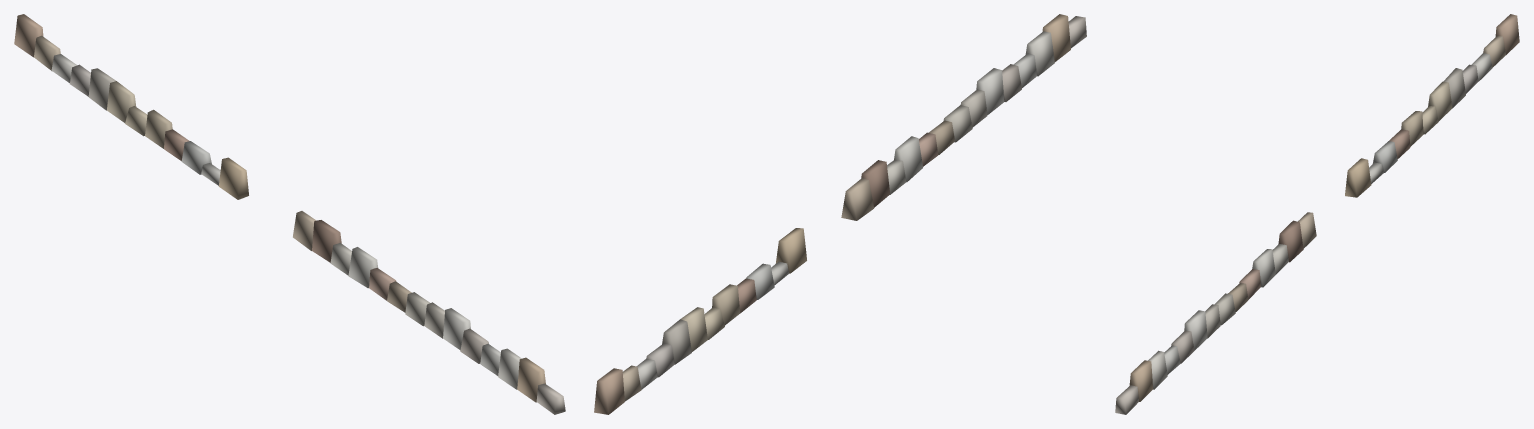
The model's file is farm_12_5_far.glb.
3 renders of one model, left to right at view 1: azimuth 30°, elevation 25°; view 2: azimuth 150°, elevation 25°; view 3: azimuth 330°, elevation 25°, orthographic. The views are drawn at different scales.
Parts seen in each view (by area): view 1: geometry_0; view 2: geometry_0; view 3: geometry_0.
Boxes of the visible parts, box(x1,y1,x2,y2) form: geometry_0: box(14, 14, 565, 414); geometry_0: box(594, 14, 1086, 414); geometry_0: box(1115, 14, 1519, 414).
Bounding box in the file's own units: 3.91 × 3.22 × 45.48.
